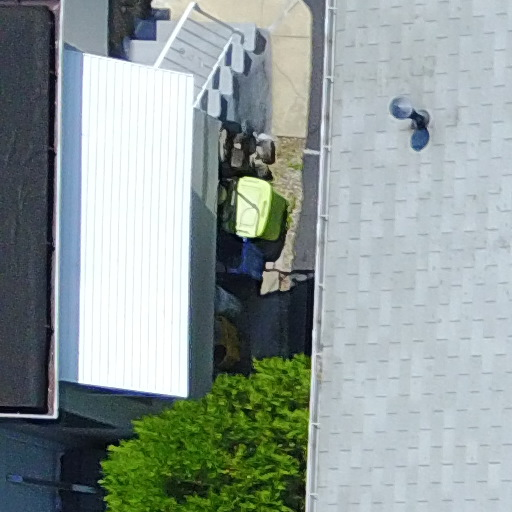container: (204, 226, 274, 291)
trash bin: (215, 170, 288, 253)
